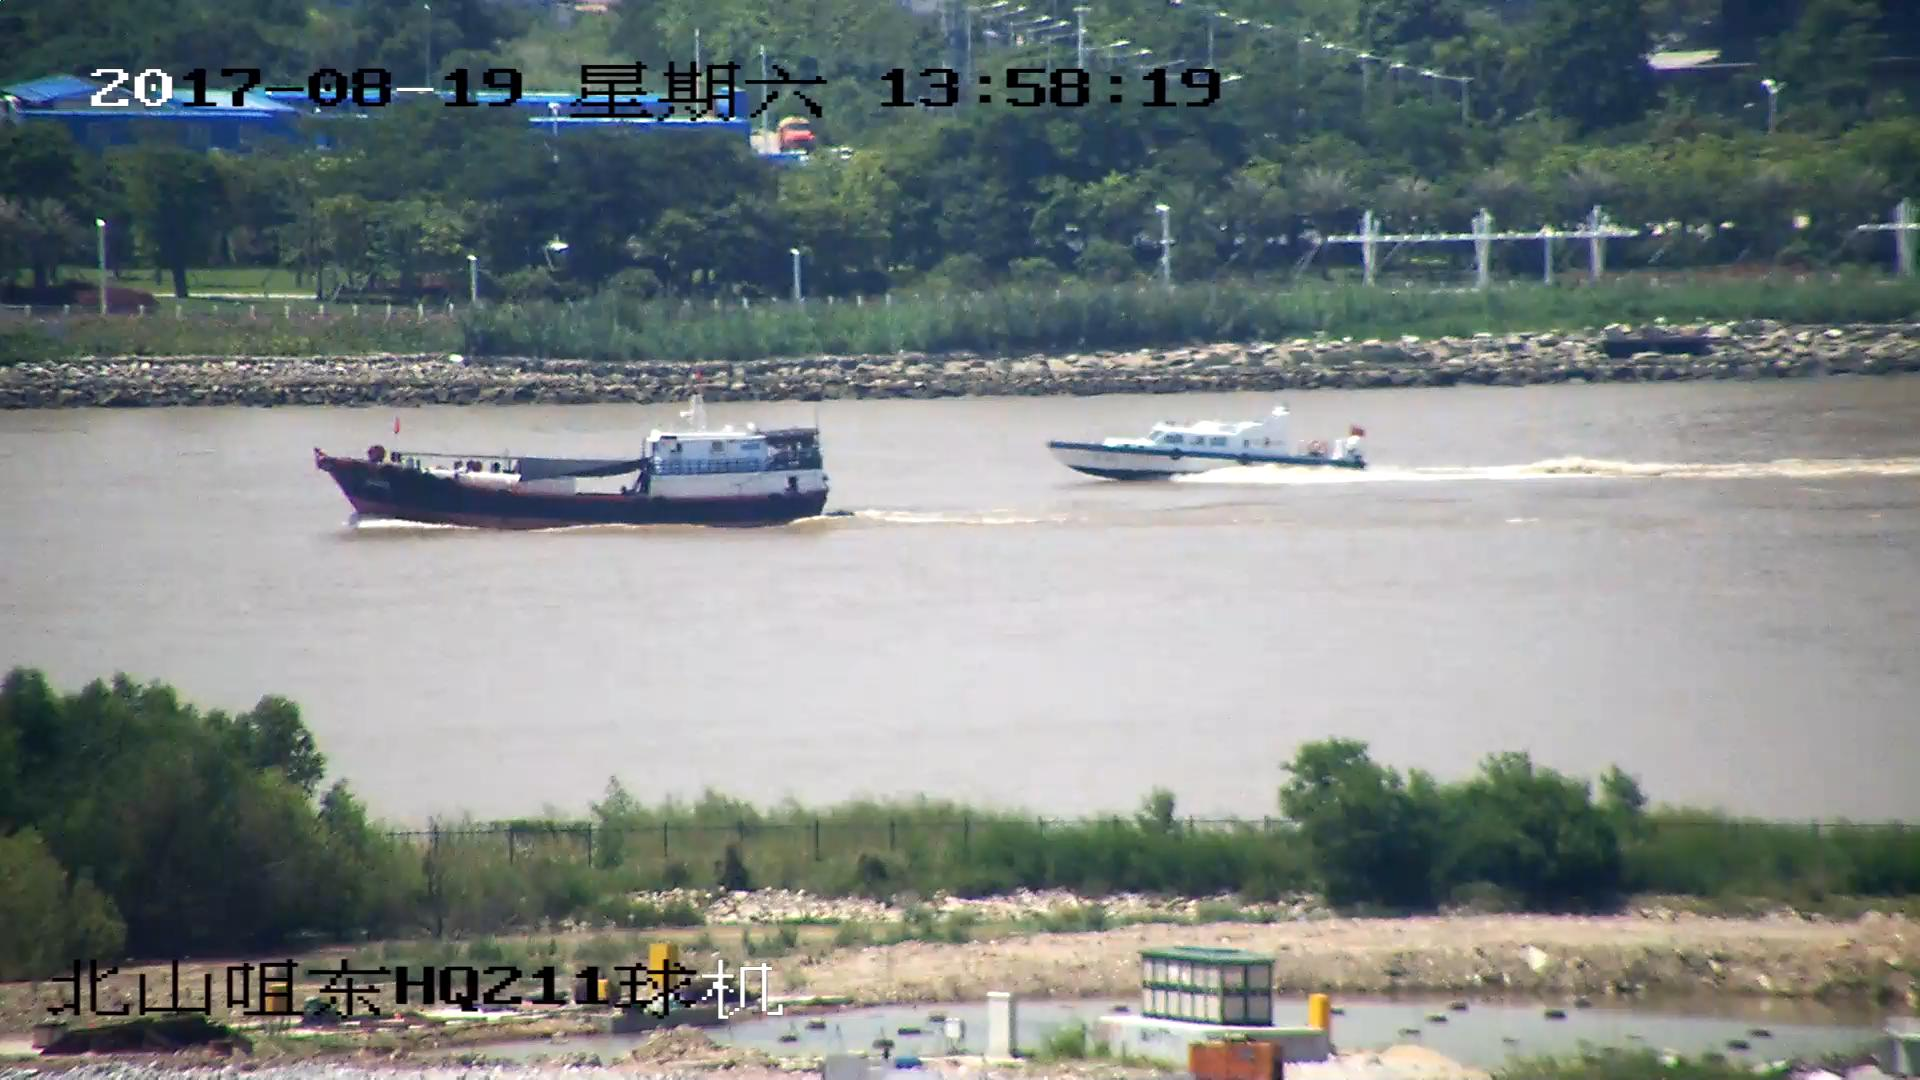fishing boat: (314, 401, 829, 532)
passenger ship: (1050, 419, 1366, 479)
